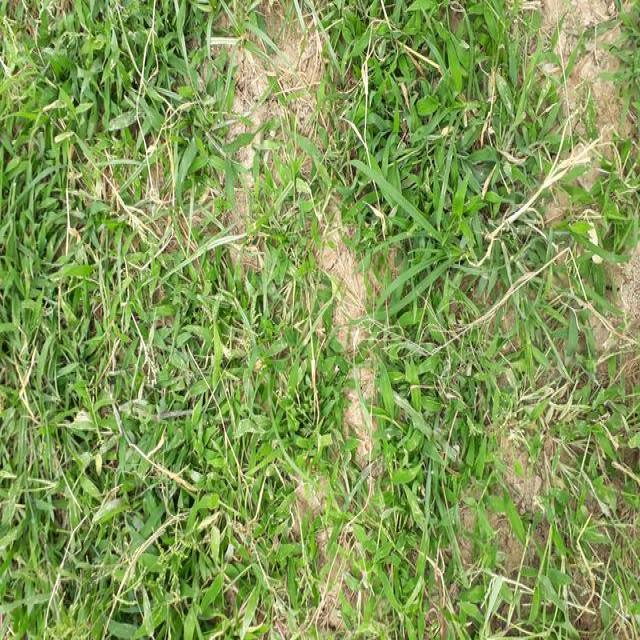weed: (77, 2, 244, 200), (342, 164, 487, 341)
